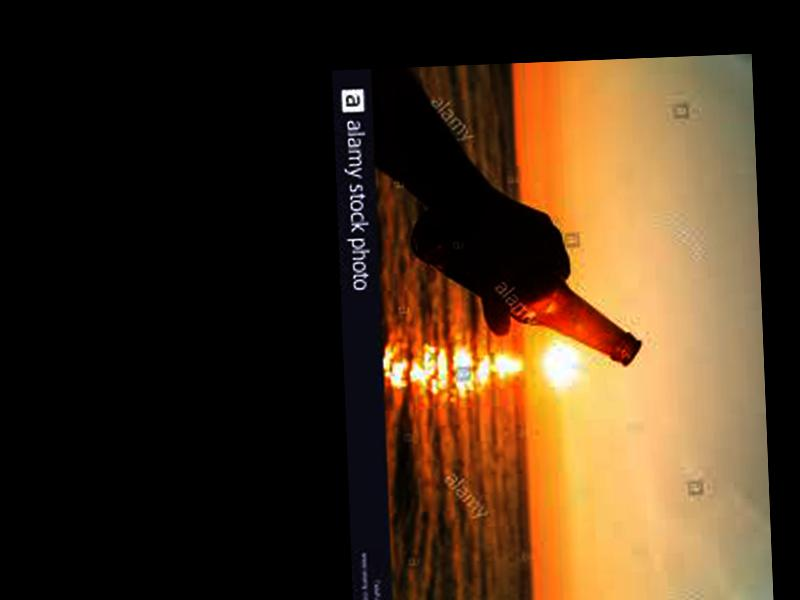Beer: (409, 195, 645, 373)
